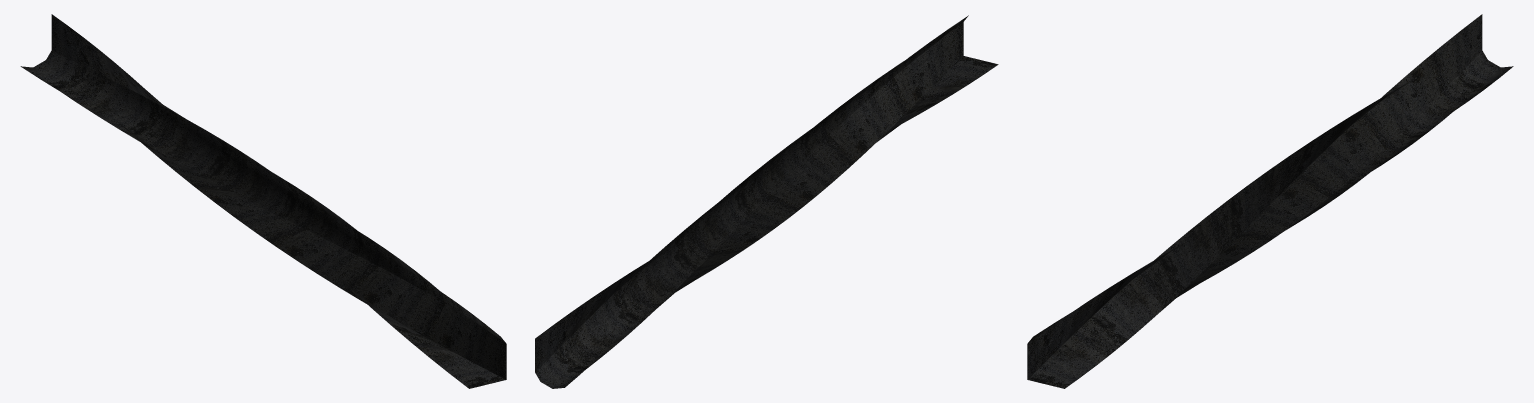
File: twisty_corridor.glb
3 views of the same model, side by side, from view 1: azimuth 30°, elevation 25°; view 2: azimuth 150°, elevation 25°; view 3: azimuth 330°, elevation 25° (orthographic). The views are drawn at different scales.
Parts seen in each view (by area): view 1: twisty corridor; view 2: twisty corridor; view 3: twisty corridor.
Boxes of the visible parts, x1,y1,x2,y2 form: twisty corridor: [20, 14, 506, 388]; twisty corridor: [535, 15, 998, 388]; twisty corridor: [1027, 14, 1513, 388].
Size of what is drawn, in the model's own units: 3.51 by 3.94 by 50.
1 material, 1 textured.
